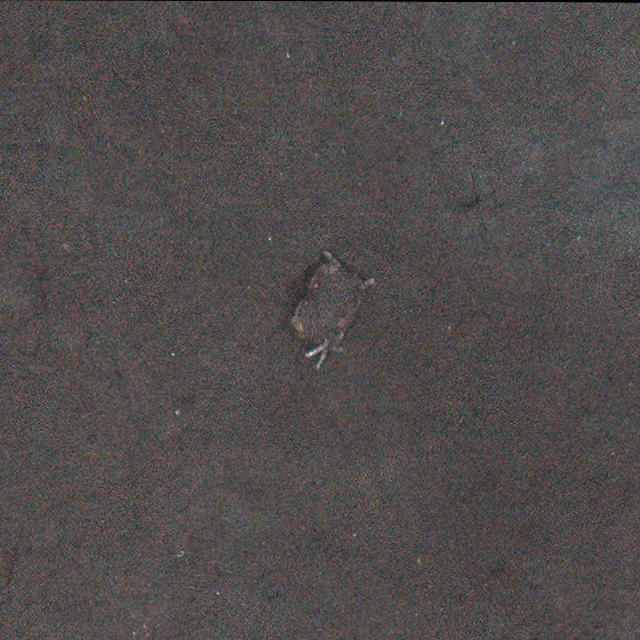crab: (294, 248, 378, 369)
